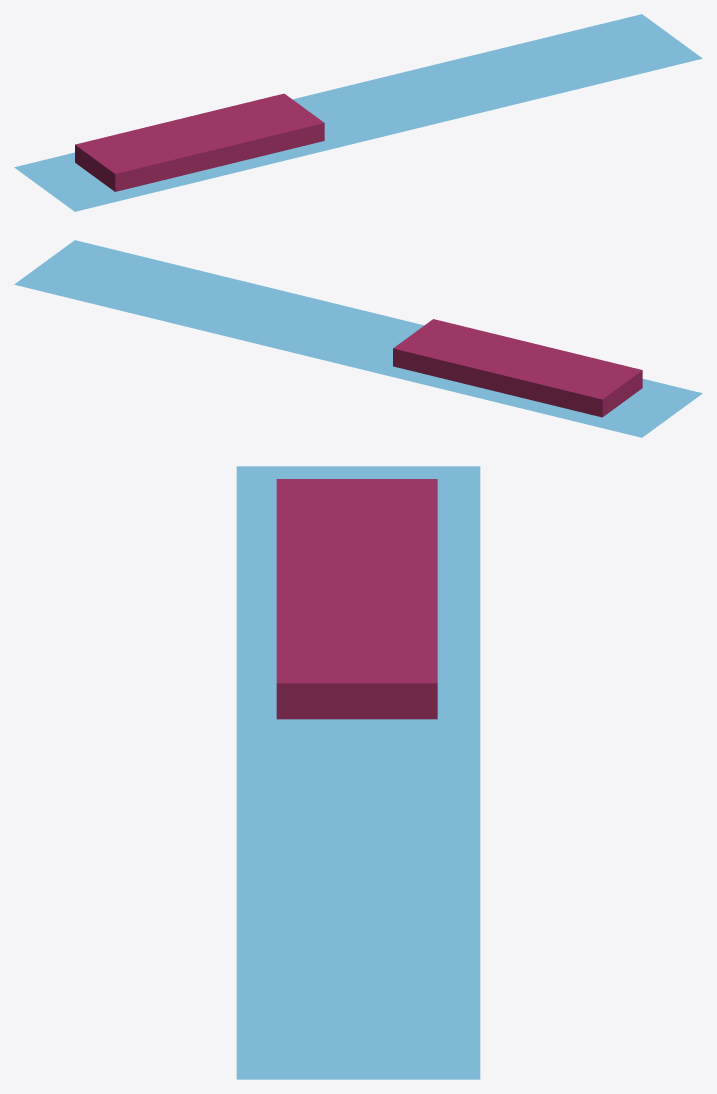
File: bar4.gltf
3 renders of one model, top to bottom at view 1: azimuth 30°, elevation 25°; view 2: azimuth 150°, elevation 25°; view 3: azimuth 270°, elevation 25°, orthographic. The views are drawn at different scales.
Parts seen in each view (by area): view 1: Plane, Cube; view 2: Plane, Cube; view 3: Plane, Cube.
Boxes of the visible parts, <box> form: Plane: <box>14,14,702,211</box>; Cube: <box>75,93,324,191</box>; Plane: <box>14,240,702,437</box>; Cube: <box>393,319,642,417</box>; Plane: <box>236,466,480,1079</box>; Cube: <box>276,479,437,719</box>.
Size of the model in its own units: 11.91 by 0.3312 by 2.
Materials: 2 (2 with a texture image).
